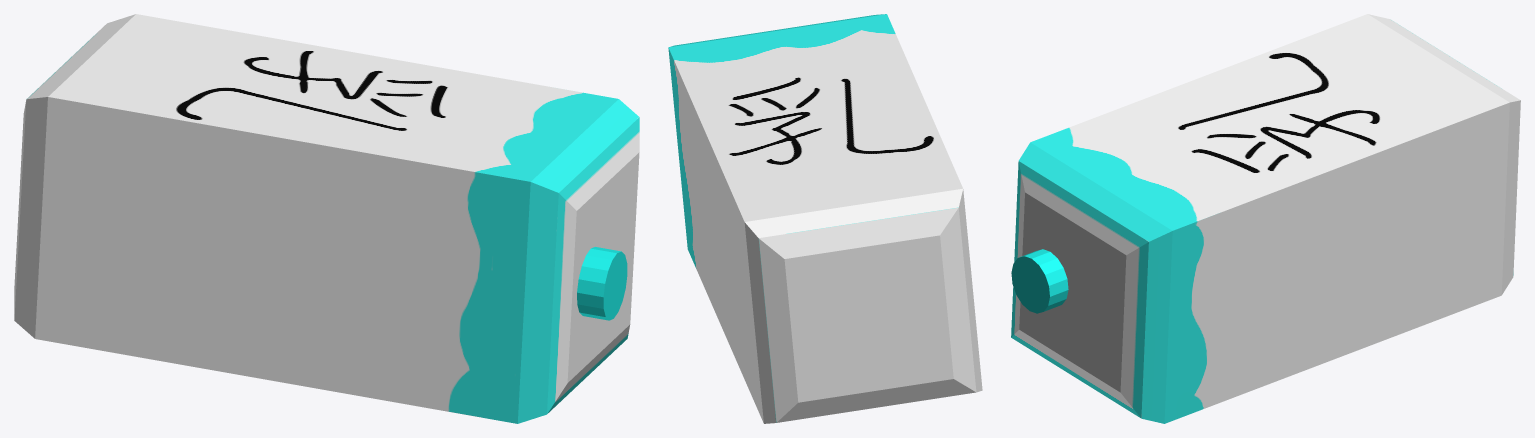
The model's file is CaixinhaDeLeite.fbx.
3 views of the same model, side by side, from view 1: azimuth 30°, elevation 25°; view 2: azimuth 150°, elevation 25°; view 3: azimuth 270°, elevation 25° (orthographic). The views are drawn at different scales.
Visible parts, largest first — view 1: CaixinhaDeLeite; view 2: CaixinhaDeLeite; view 3: CaixinhaDeLeite.
Boxes of the visible parts, box(x1,y1,x2,y2) form: CaixinhaDeLeite: box(14, 14, 639, 423); CaixinhaDeLeite: box(668, 14, 982, 423); CaixinhaDeLeite: box(1011, 14, 1520, 423).
Size of the model in its own units: 26.5 by 13.72 by 27.99.
